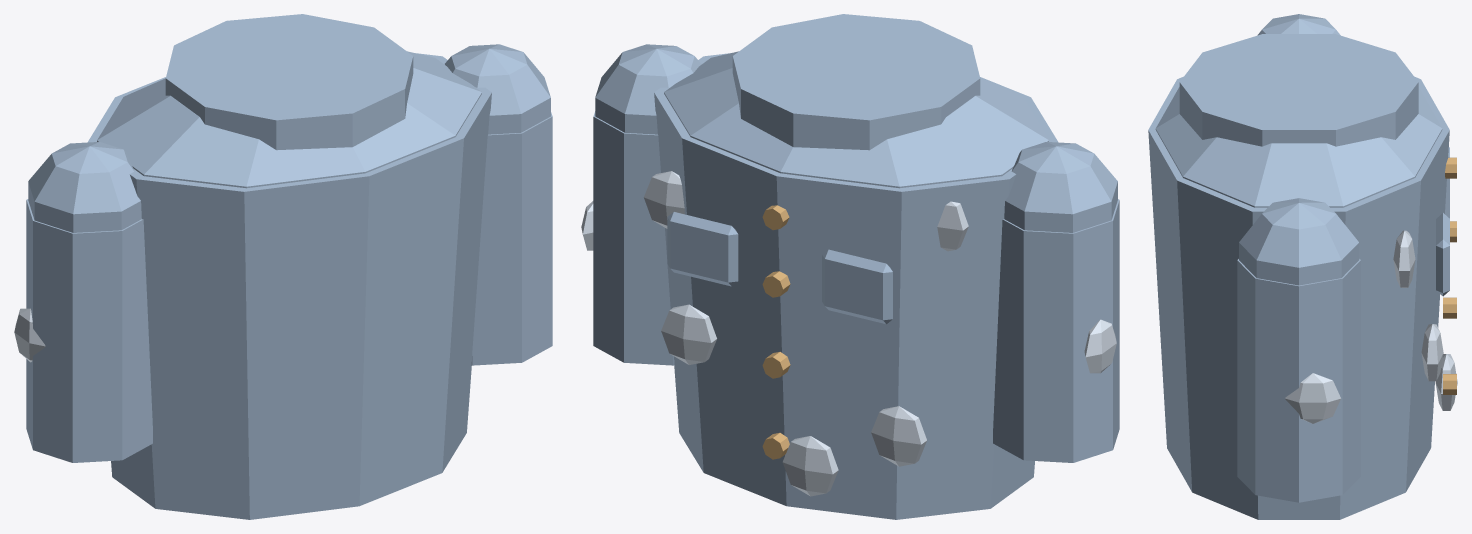
The model's file is jacket_varenka.glb.
The picture shows the model from 3 angles, left to right: view 1: azimuth 30°, elevation 25°; view 2: azimuth 150°, elevation 25°; view 3: azimuth 270°, elevation 25°; orthographic projection. The views are drawn at different scales.
Parts seen in each view (by area): view 1: Torso, ArmL, ArmR; view 2: Torso, ArmL, ArmR; view 3: Torso, ArmR, ArmL.
Part boxes in pixels (x1,y1,x2,y2): Torso: [87, 14, 491, 519]; ArmL: [14, 142, 152, 462]; ArmR: [445, 44, 552, 365]; Torso: [644, 14, 1058, 519]; ArmL: [993, 142, 1119, 462]; ArmR: [581, 44, 701, 365]; Torso: [1148, 34, 1457, 519]; ArmR: [1237, 198, 1360, 502]; ArmL: [1257, 14, 1340, 35].
Size of the model in its own units: 0.8077 by 0.575 by 0.4403.
